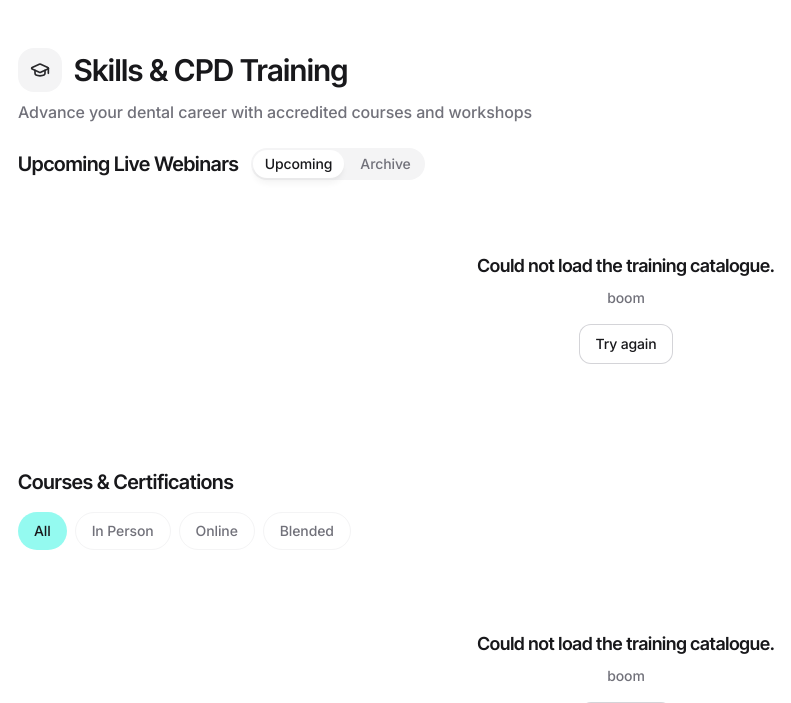
Scenario: Training › offers a retry when the catalogue request fails, restoring both lists
Expected: the message "Could not load the training catalogue. boom Try again" below "Upcoming Live Webinars" is shown, x1=477 y1=255 x2=775 y2=276
Click the 1st button "Try again".
click(626, 344)  # box x1=580 y1=324 x2=672 y2=364
(page scrolled)
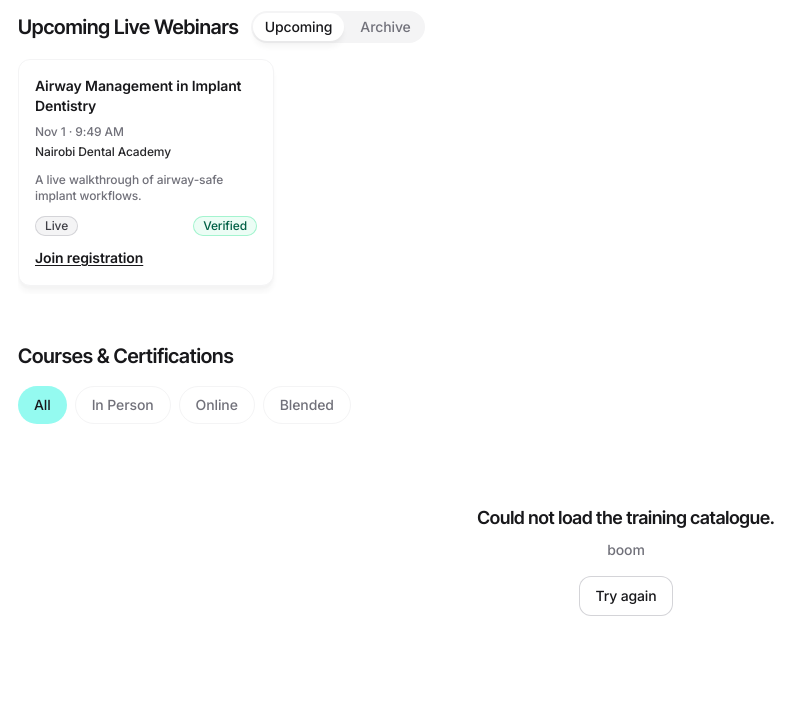
Click the button "Try again".
click(626, 596)  # box x1=580 y1=576 x2=672 y2=616
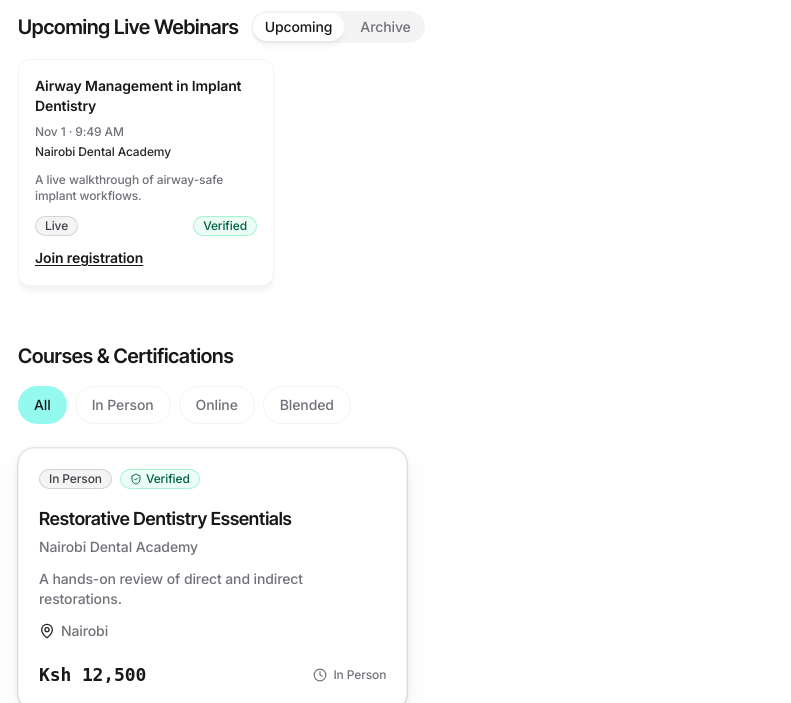
Expected: the heading "Restorative Dentistry Essentials" is shown, x1=39 y1=508 x2=292 y2=529
